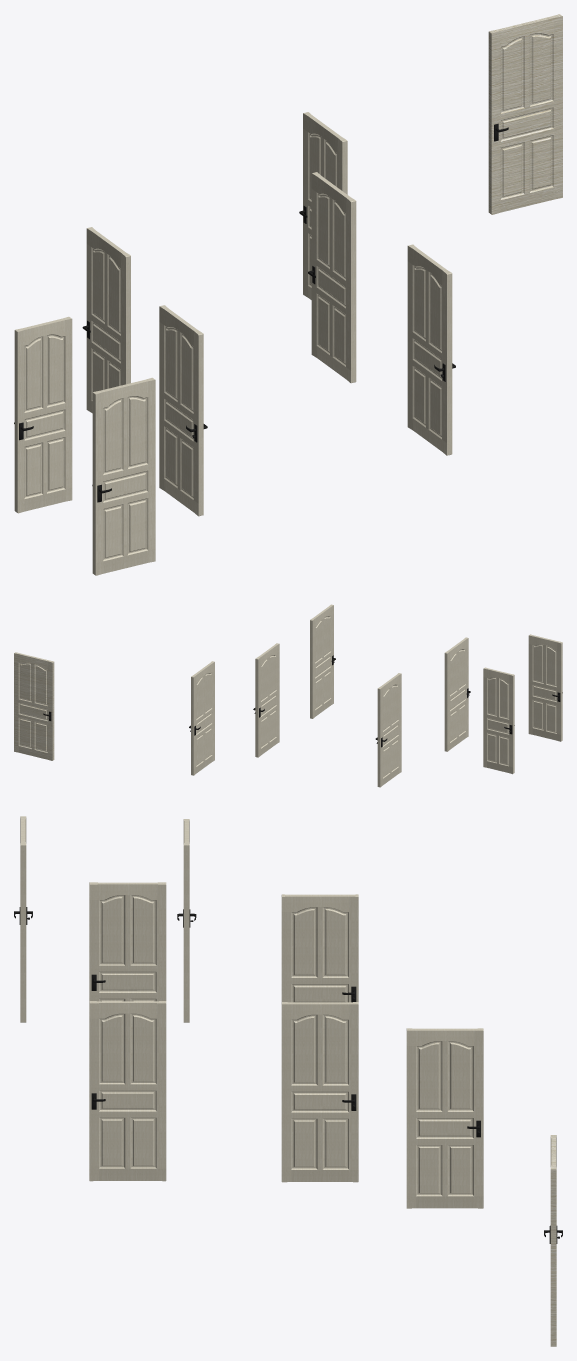
File: doors.FBX
3 views of the same model, one above another, from view 1: azimuth 30°, elevation 25°; view 2: azimuth 150°, elevation 25°; view 3: azimuth 270°, elevation 25° (orthographic). The views are drawn at different scales.
Parts seen in each view (by area): view 1: door_a015, door_a012, door_a013, door_a009, door_a010, door_a011, door_a014, door_a008; view 2: door_a015, door_a012, door_a013, door_a009, door_a014, door_a011, door_a008, door_a010; view 3: door_a008, door_a010, door_a009, door_a011, door_a014, door_a015, door_a012, door_a013.
Boxes of the visible parts, x1,y1,x2,y2 form: door_a015: [488, 14, 562, 214]; door_a012: [92, 377, 155, 575]; door_a013: [14, 316, 72, 513]; door_a009: [311, 172, 356, 383]; door_a010: [407, 244, 452, 455]; door_a011: [159, 305, 203, 516]; door_a014: [86, 227, 130, 413]; door_a008: [303, 112, 347, 299]; door_a015: [14, 652, 54, 760]; door_a012: [528, 634, 562, 741]; door_a013: [483, 667, 514, 774]; door_a009: [255, 643, 279, 757]; door_a014: [377, 673, 401, 787]; door_a011: [444, 637, 468, 751]; door_a008: [191, 661, 214, 775]; door_a010: [310, 604, 333, 718]; door_a008: [406, 1028, 483, 1208]; door_a010: [89, 1001, 166, 1181]; door_a009: [281, 1002, 358, 1182]; door_a011: [89, 882, 166, 1001]; door_a014: [281, 894, 358, 1002]; door_a015: [550, 1135, 556, 1346]; door_a012: [20, 816, 26, 1022]; door_a013: [183, 819, 189, 1022].
Bounding box in the file's own units: 9014 × 2120 × 5931.
